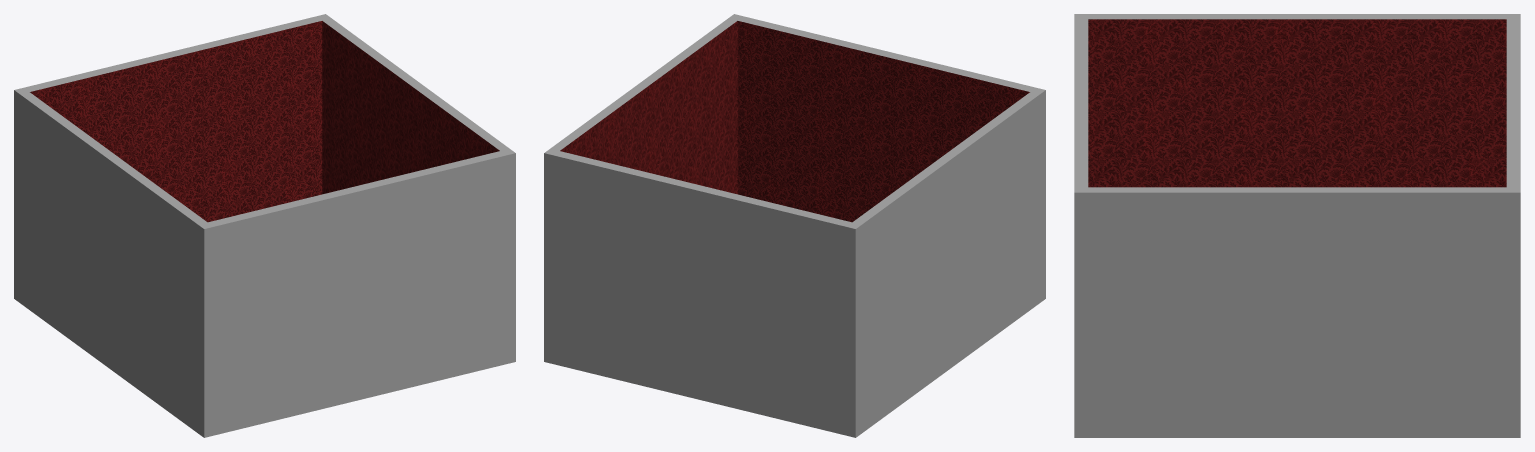
The model's file is WALLUVOK.fbx.
3 views of the same model, side by side, from view 1: azimuth 30°, elevation 25°; view 2: azimuth 150°, elevation 25°; view 3: azimuth 270°, elevation 25° (orthographic). The views are drawn at different scales.
Parts seen in each view (by area): view 1: wall:pCube3; view 2: wall:pCube3; view 3: wall:pCube3.
Boxes of the visible parts, <box> form: wall:pCube3: <box>14,14,515,437</box>; wall:pCube3: <box>544,14,1045,437</box>; wall:pCube3: <box>1074,14,1520,437</box>.
Bounding box in the file's own units: 15.13 × 9.69 × 15.98.
3 materials, 2 textured.
